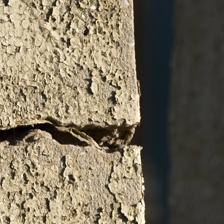Crack: (4, 116, 137, 156)
